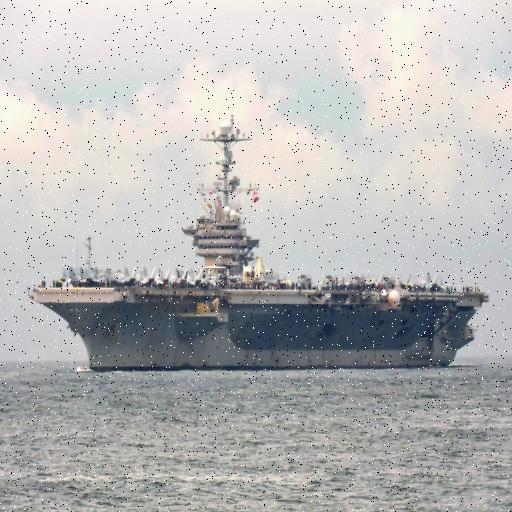Portanaves: (24, 115, 494, 382)
